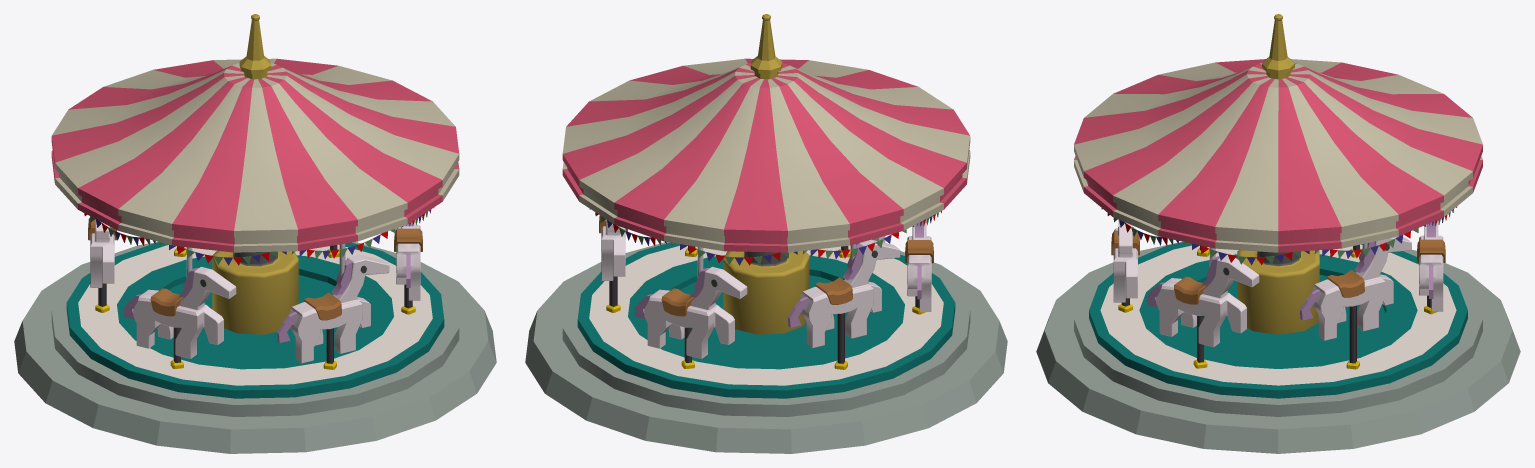
Rendered from MerryGoRound_MD.fbx.
The picture shows the model from 3 angles, left to right: view 1: azimuth 30°, elevation 25°; view 2: azimuth 150°, elevation 25°; view 3: azimuth 270°, elevation 25°; orthographic projection.
Visible parts, largest first — view 1: rotation, unRotate, horse6, horse1, horse2, horse5; view 2: rotation, unRotate, horse4, horse5, horse6, horse3; view 3: rotation, unRotate, horse2, horse3, horse4, horse1.
Boxes of the visible parts, left/top/right/bottom form: rotation: left=51, top=58, right=459, bottom=398; unRotate: left=14, top=14, right=496, bottom=453; horse6: left=124, top=247, right=236, bottom=362; horse1: left=277, top=243, right=389, bottom=363; horse2: left=394, top=219, right=422, bottom=308; horse5: left=88, top=217, right=116, bottom=306; rotation: left=562, top=58, right=970, bottom=398; unRotate: left=525, top=14, right=1007, bottom=453; horse4: left=635, top=247, right=747, bottom=362; horse5: left=787, top=239, right=900, bottom=363; horse6: left=905, top=219, right=933, bottom=311; horse3: left=599, top=215, right=627, bottom=306; rotation: left=1074, top=59, right=1482, bottom=398; unRotate: left=1036, top=14, right=1520, bottom=453; horse2: left=1147, top=247, right=1259, bottom=362; horse3: left=1299, top=236, right=1411, bottom=363; horse4: left=1417, top=220, right=1445, bottom=311; horse1: left=1111, top=220, right=1139, bottom=306.
Bounding box in the file's own units: 6.53 × 5 × 6.53.
